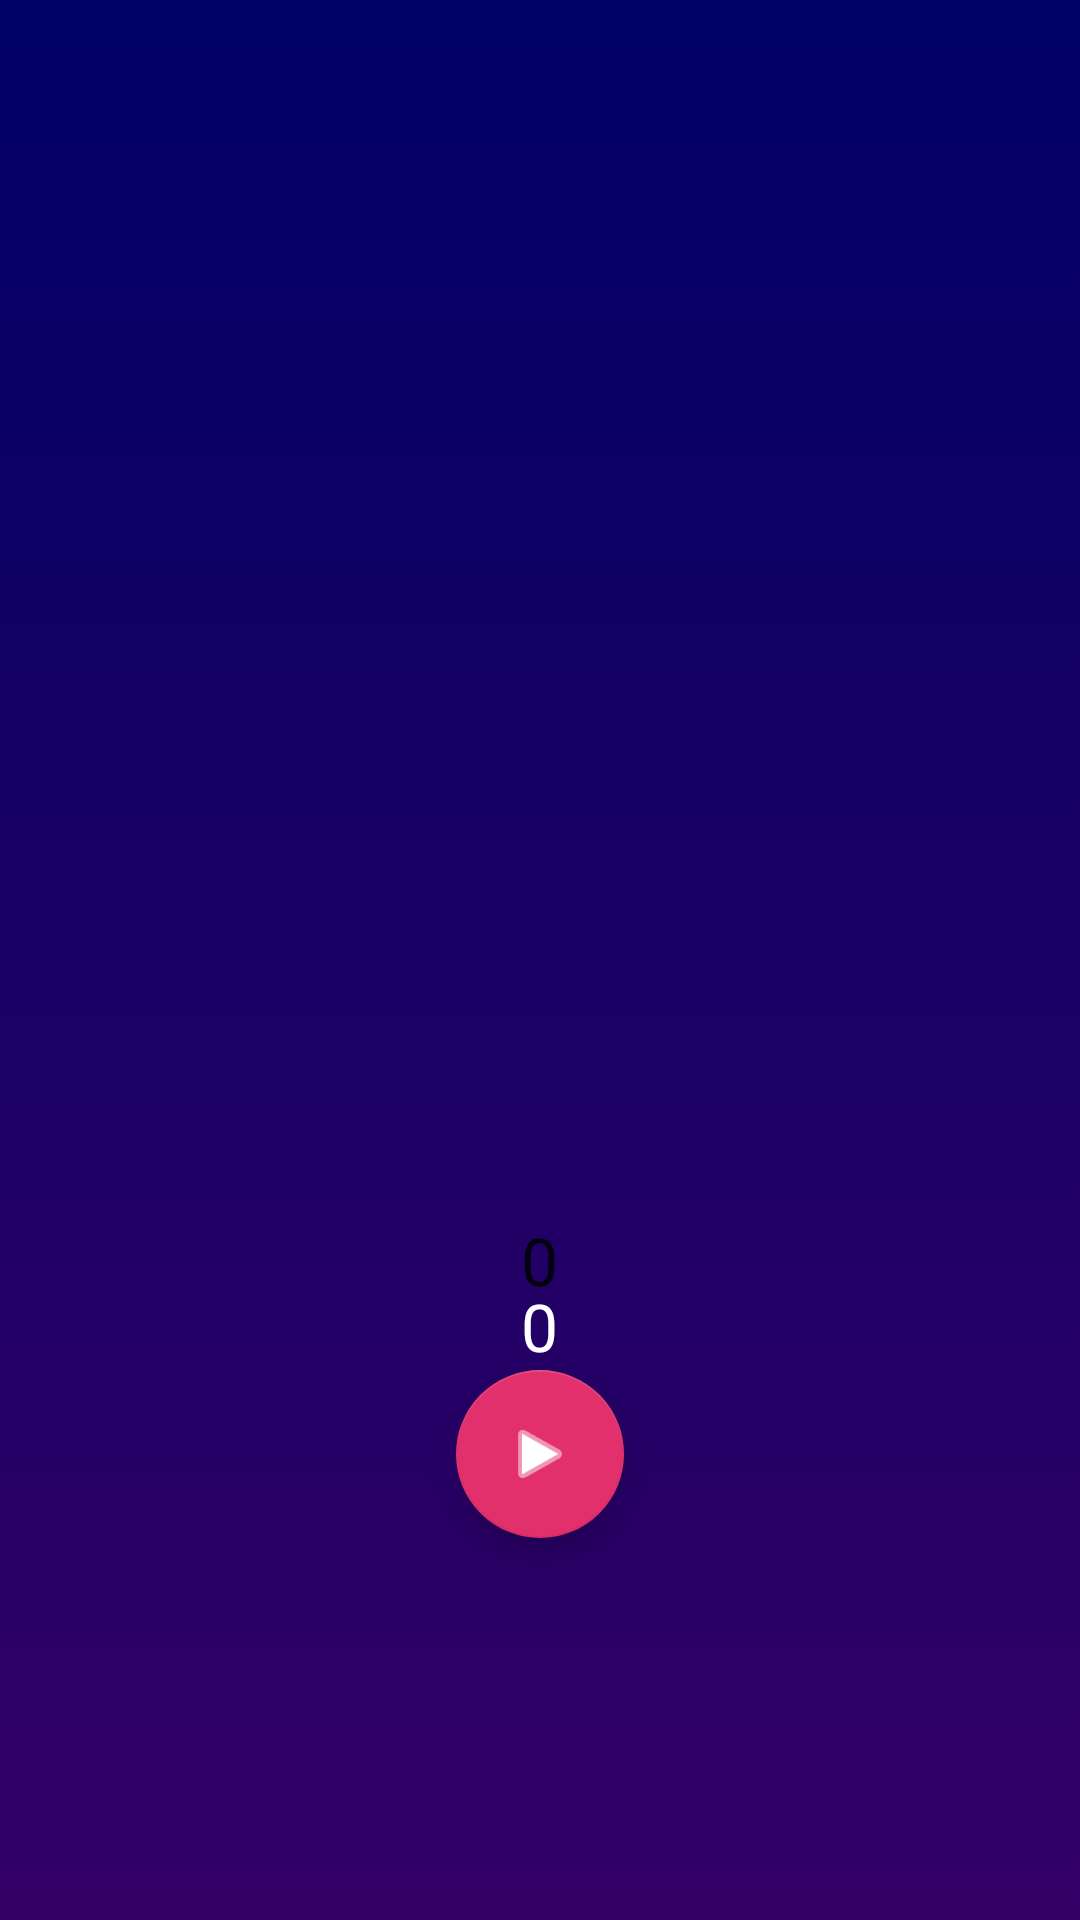

Screen size 1080w x 1920h. Icon name, then its center in pixels as (x,y):
play: (540,1454)
